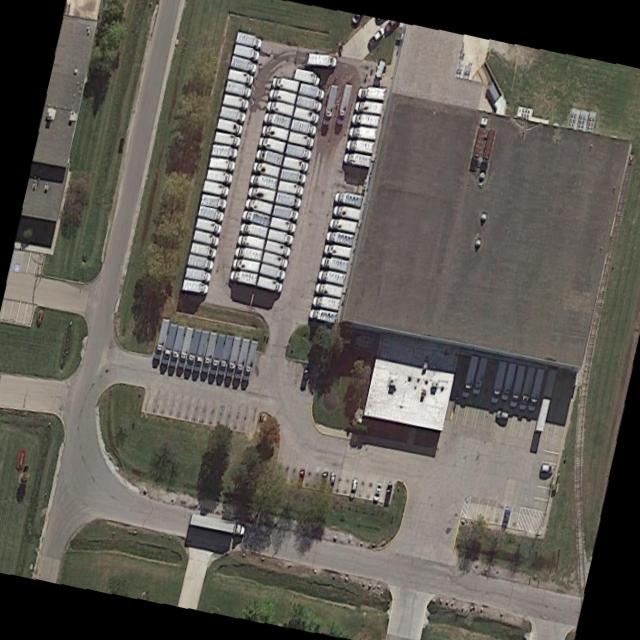large-vehicle: (536, 365, 559, 431), (190, 511, 246, 535), (489, 358, 509, 405), (461, 353, 480, 397), (169, 324, 187, 368), (216, 333, 234, 377), (519, 364, 537, 408), (336, 82, 354, 125), (510, 362, 527, 407), (528, 366, 545, 411), (471, 354, 489, 396), (177, 324, 194, 368), (184, 325, 201, 369), (242, 338, 259, 382), (161, 322, 178, 364), (225, 335, 242, 377), (234, 336, 251, 378), (153, 316, 170, 358), (501, 361, 518, 402), (193, 328, 209, 371), (323, 83, 339, 125), (202, 329, 218, 371), (209, 332, 225, 374), (246, 194, 274, 215), (329, 214, 358, 234), (229, 267, 259, 286), (269, 214, 297, 234), (264, 109, 293, 128), (231, 54, 257, 75), (308, 307, 338, 325), (280, 165, 307, 185), (218, 102, 246, 121), (272, 73, 300, 92), (256, 146, 284, 165), (336, 188, 364, 207), (233, 255, 261, 274), (272, 203, 300, 222), (318, 266, 347, 284), (228, 66, 254, 86), (233, 41, 259, 61), (294, 65, 320, 85), (293, 104, 319, 124), (259, 135, 286, 154), (236, 244, 263, 263), (259, 262, 286, 281), (268, 226, 295, 245), (285, 141, 312, 160), (237, 233, 267, 250), (253, 160, 281, 178), (249, 184, 277, 202), (242, 208, 270, 226), (217, 116, 243, 135), (225, 78, 251, 97), (185, 265, 211, 284), (240, 220, 269, 237), (333, 203, 362, 220), (355, 97, 384, 114), (351, 109, 380, 126), (196, 216, 223, 234), (203, 178, 230, 196), (262, 251, 289, 269), (265, 239, 292, 257), (289, 128, 313, 148), (270, 86, 298, 103), (262, 124, 290, 141), (251, 172, 279, 189), (214, 130, 242, 147), (322, 254, 350, 271), (316, 279, 344, 296), (313, 294, 341, 311), (237, 30, 262, 49), (201, 193, 227, 211), (299, 82, 325, 100), (266, 99, 295, 115), (326, 228, 355, 244), (323, 242, 352, 258), (350, 123, 379, 139), (211, 141, 238, 158), (193, 228, 220, 245), (256, 275, 283, 292), (278, 179, 305, 196), (307, 52, 337, 67), (210, 154, 235, 172), (206, 167, 231, 185), (297, 93, 322, 111), (357, 85, 387, 100), (344, 151, 372, 167), (223, 92, 249, 109), (190, 242, 216, 259), (275, 191, 301, 208), (284, 154, 308, 172), (198, 205, 223, 222), (188, 253, 212, 270), (292, 116, 316, 133), (182, 279, 207, 295), (348, 138, 376, 152)
small-vehicle: (370, 24, 385, 45), (382, 481, 394, 507), (300, 366, 311, 393), (500, 505, 512, 529), (537, 460, 554, 475), (327, 470, 338, 493), (348, 477, 360, 497), (295, 465, 307, 485), (319, 468, 329, 490), (373, 480, 383, 501), (496, 408, 509, 422)
